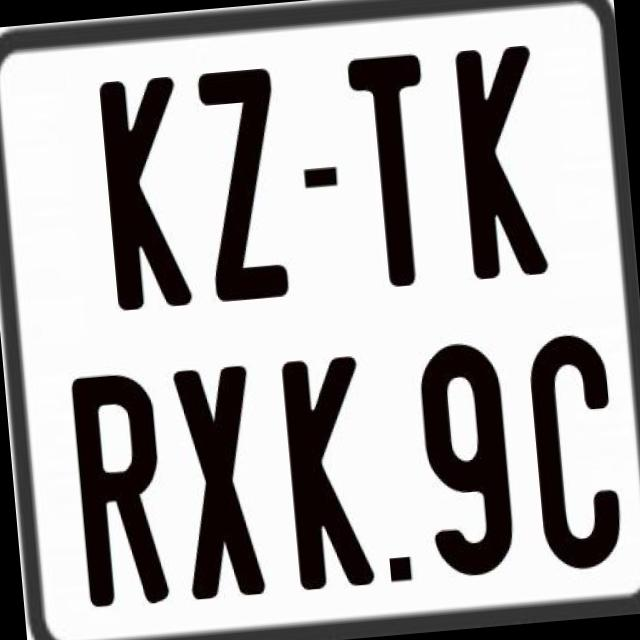9: (413, 337, 516, 580)
C: (524, 332, 623, 580)
K: (94, 74, 194, 314), (278, 351, 376, 587), (452, 39, 548, 274)
R: (69, 367, 175, 606)
T: (346, 49, 439, 294)
X: (172, 364, 271, 604)
Z: (194, 64, 294, 308)
